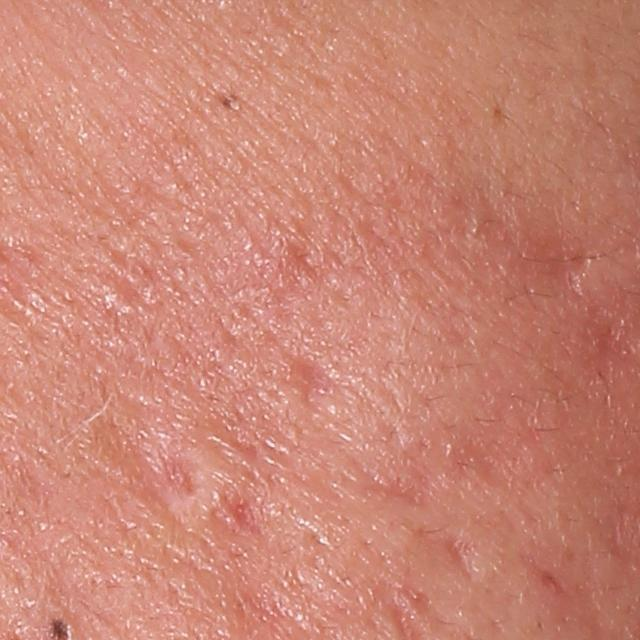atrophic_scar: (394, 425, 539, 498), (512, 212, 598, 310), (528, 535, 602, 622), (274, 344, 330, 412), (212, 492, 266, 539), (434, 540, 480, 593), (151, 448, 197, 493)
nevus: (220, 87, 241, 115)
